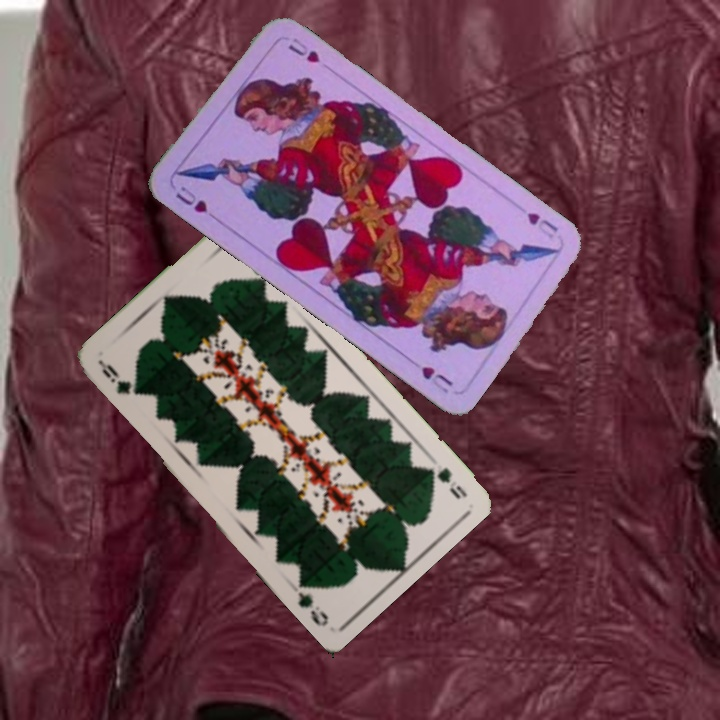G9: (420, 461, 470, 502), (97, 359, 133, 398)
HU: (171, 182, 211, 216), (522, 208, 561, 241)
